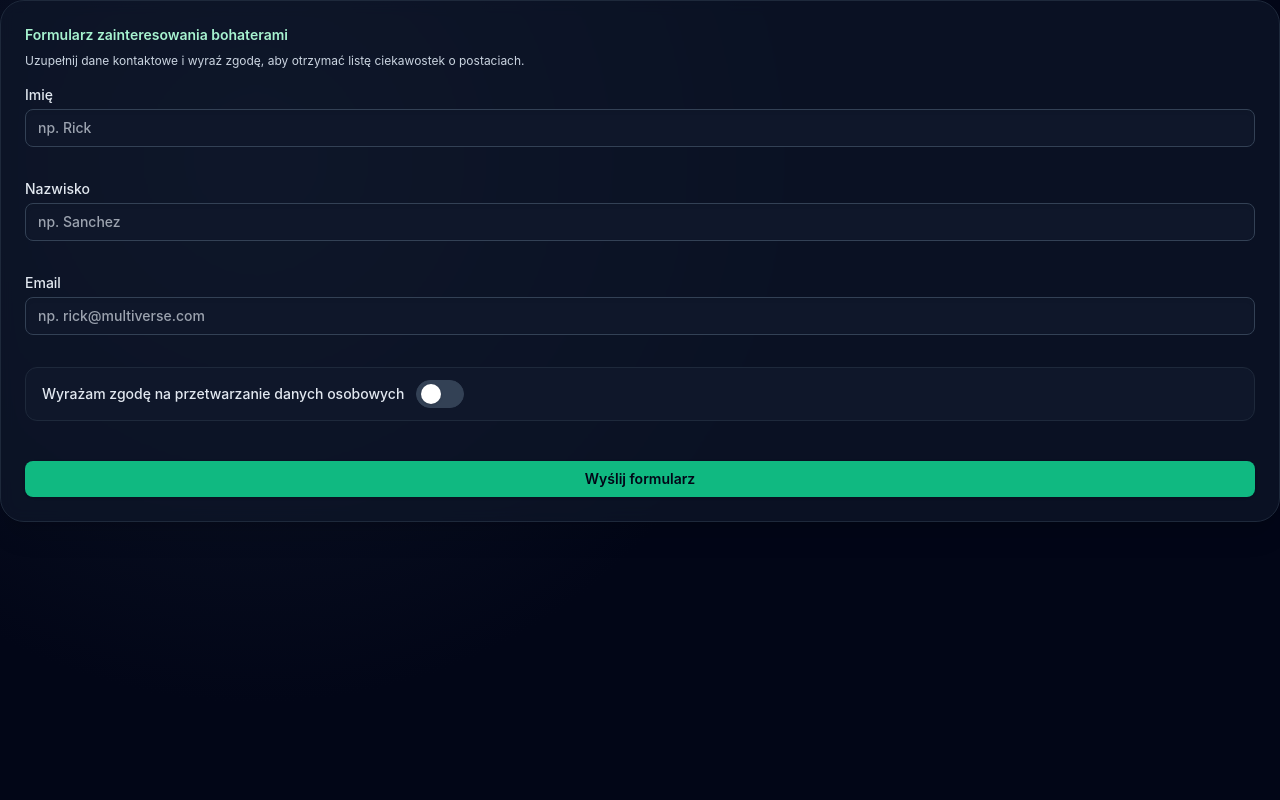
CharacterConsentForm › shows validation errors and sets aria-invalid on required fields
Click the button "Wyślij formularz" at (640, 479), box [25, 461, 1255, 497]
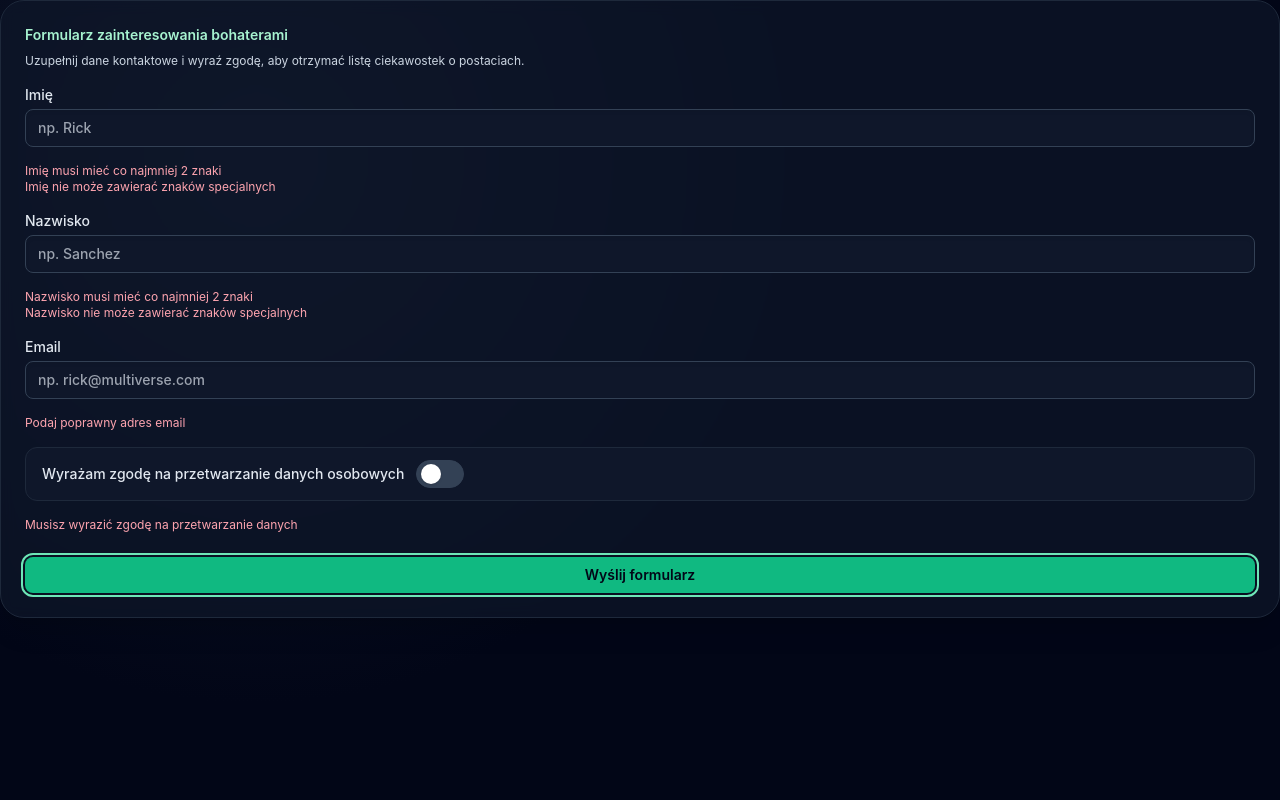
Expected: the list item "Imię musi mieć co najmniej 2 znaki" is shown, [25, 163, 222, 178]
Expected: the list item "Nazwisko musi mieć co najmniej 2 znaki" is shown, [25, 289, 253, 304]
Expected: the list item "Podaj poprawny adres email" is shown, [25, 415, 185, 430]
